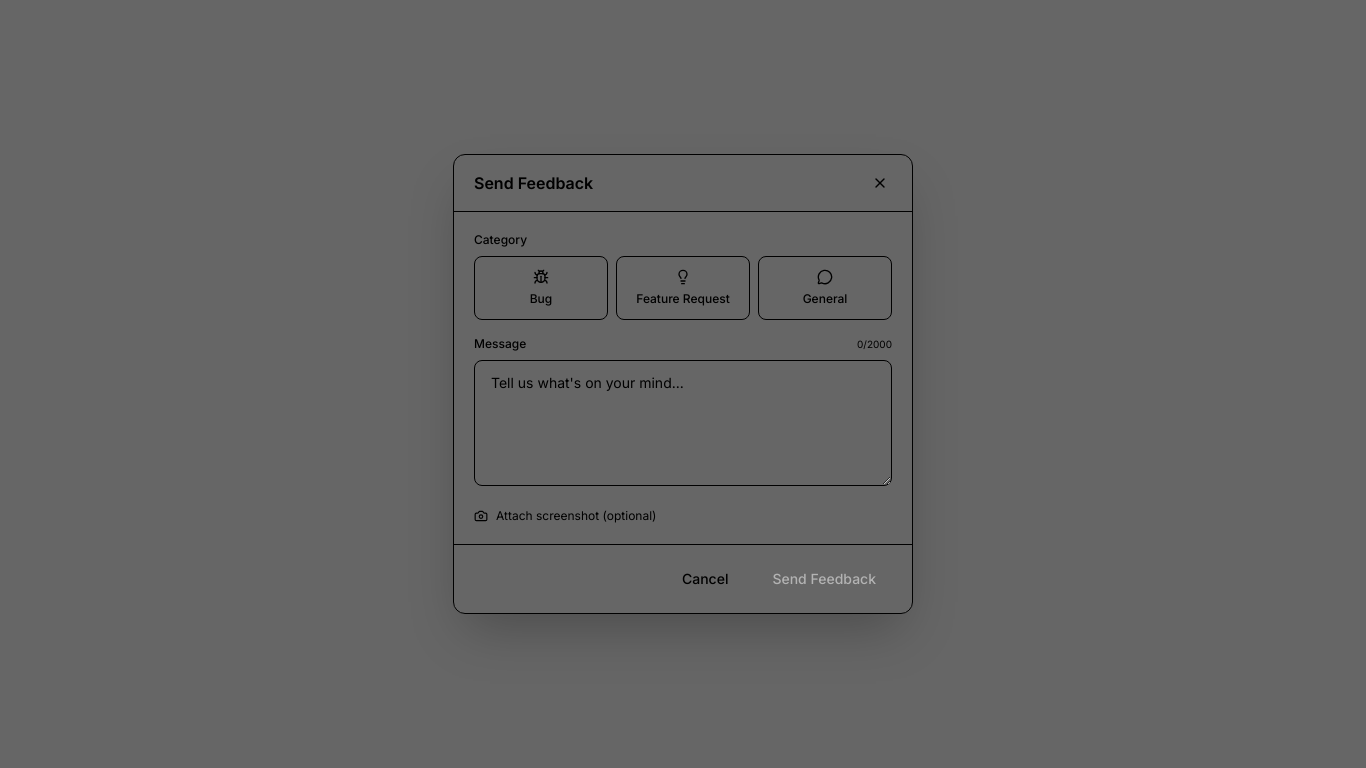
FeedbackModal › updates character count as user types
The image size is (1366, 768).
Type "Hello world" into the text box with placeholder "Tell us what's on your mind...". click: (683, 423)
box: [474,360,892,486]
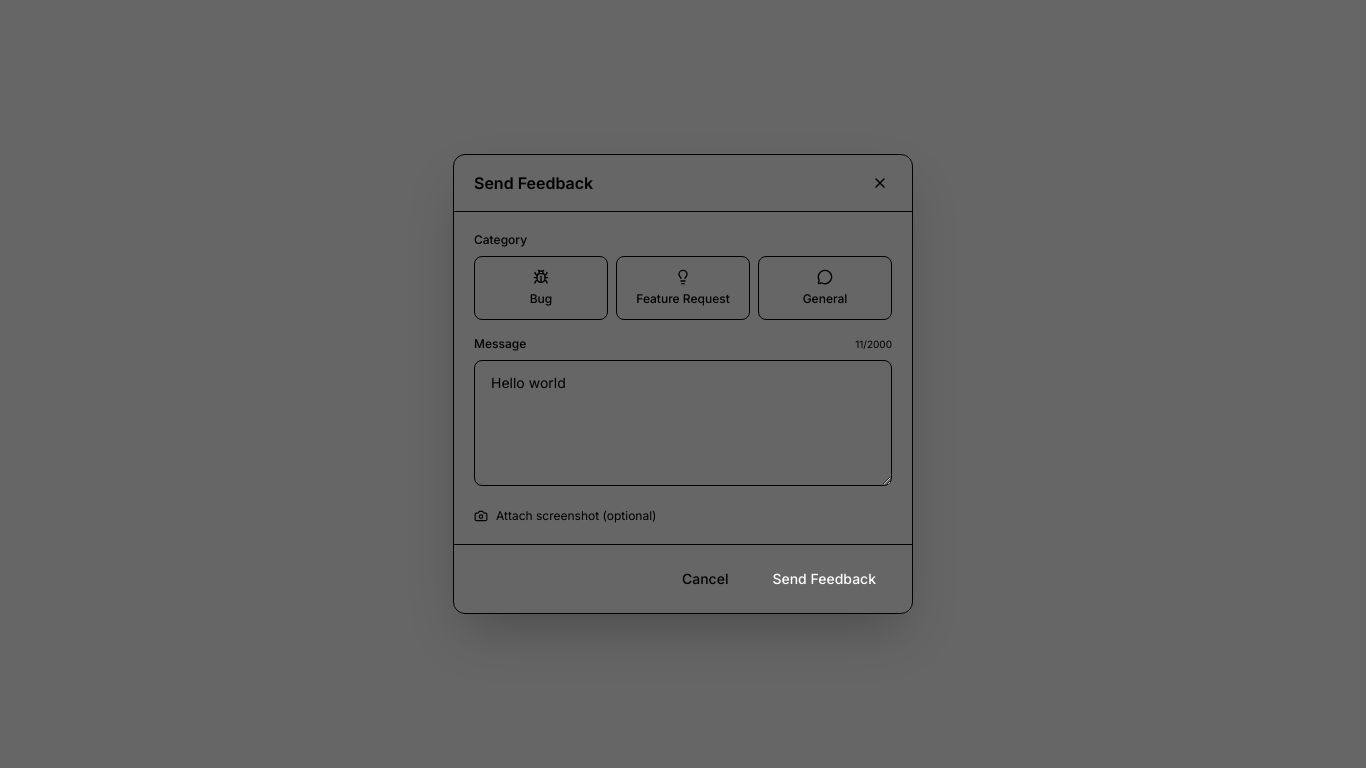
Now the text "11/2000" is shown, box [855,336,892,352]
